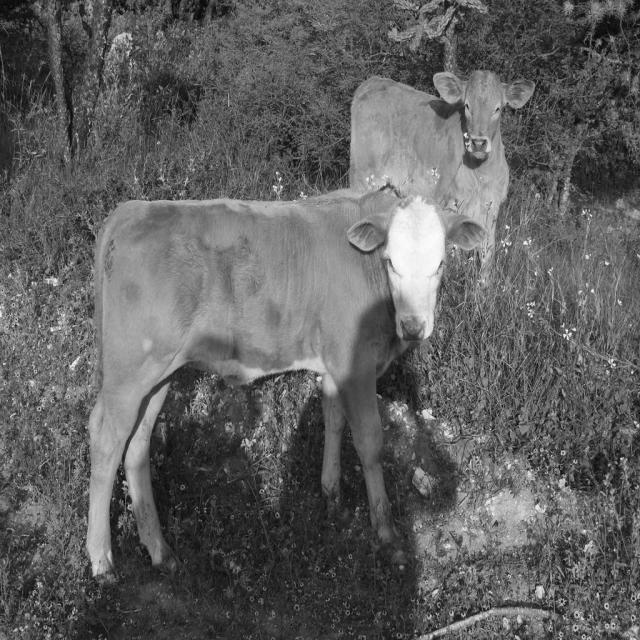cow: (86, 191, 482, 576), (350, 70, 535, 279)
